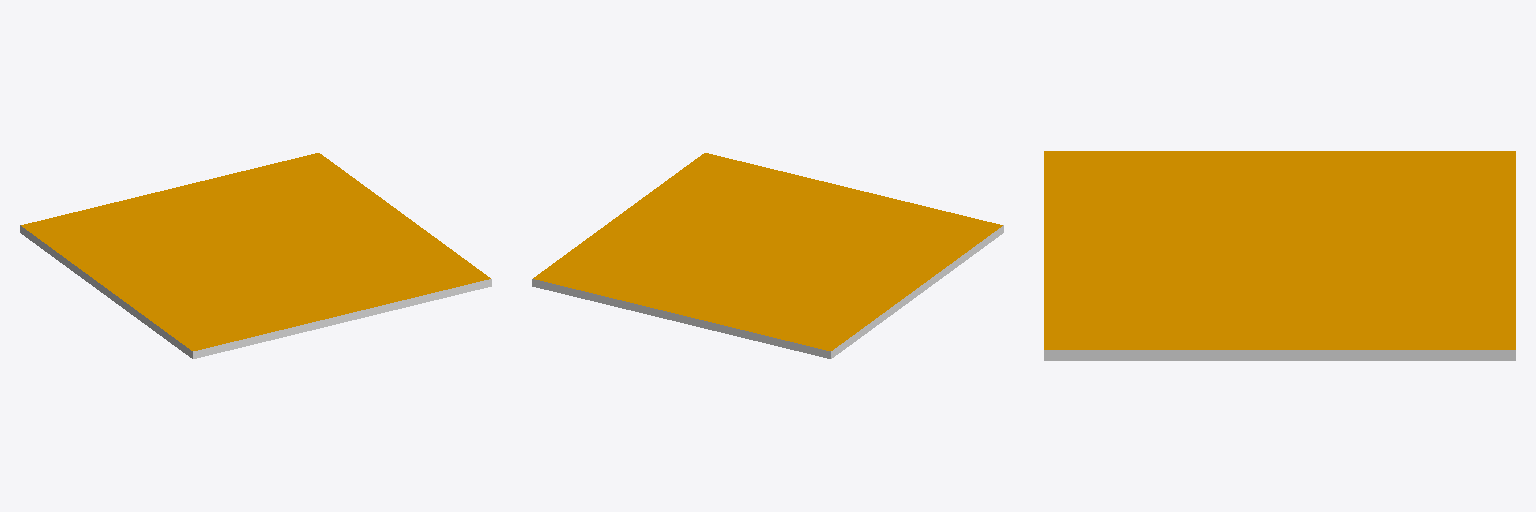
robot.urdf — cb_9x6:
<?xml version="1.0" ?> 
<robot name="cb_9x6">
  <link name="base_link">
  <inertial>
    <mass value="0.01" />
    <origin xyz="0 0 0.0" />
    <inertia  ixx="1.0" ixy="0.0"  ixz="0.0"  iyy="1.0"  iyz="0.0"  izz="1.0" />
  </inertial>
  <visual>
   <origin xyz="0 0 0.0" rpy="0 0 0" />
   <geometry>
     <mesh filename="package://cob_gazebo_objects/Media/models/cb_9x6.dae" scale="0.0254 0.0254 0.0254"/>
   </geometry>
  </visual>
  <collision>
   <origin xyz="0 0 0.072" rpy="0 0 0" />
   <geometry>
     <box size="0.2 0.2 0.005" />
     <!--mesh filename="package://cob_gazebo_objects/Media/models/cb_9x6.dae"/-->>
   </geometry>
  </collision>     
  </link>
</robot>

--- Facts derived from the render (not from the file) ---
The picture shows the robot from 3 angles, left to right: view 1: azimuth 30°, elevation 25°; view 2: azimuth 150°, elevation 25°; view 3: azimuth 270°, elevation 25°; orthographic projection.
Model cb_9x6 with 1 links and 0 joints (none), rooted at base_link, posed all joints at 0.
Visible links, largest first — view 1: base_link; view 2: base_link; view 3: base_link.
Boxes of the visible links, x1,y1,x2,y2 form: base_link: (20, 153, 491, 358); base_link: (532, 153, 1003, 358); base_link: (1044, 151, 1515, 360).
Size in the robot's own frame: 0.2 by 0.2 by 0.005 metres.
1 mesh visuals loaded from 1 distinct referenced files (1 Collada DAE).